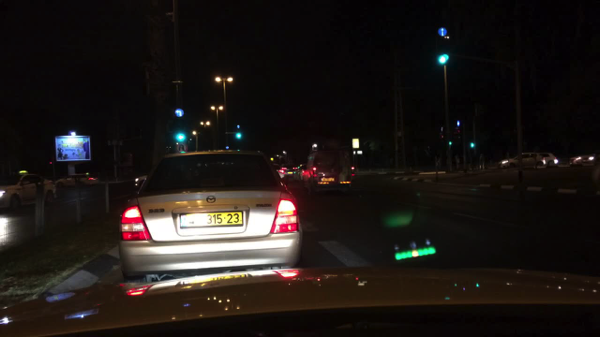car: (118, 150, 304, 282), (305, 148, 352, 198), (0, 170, 57, 211), (499, 152, 545, 171), (58, 172, 99, 188), (569, 153, 599, 166), (538, 151, 558, 168), (271, 162, 286, 181), (134, 175, 151, 189), (297, 164, 307, 179), (351, 167, 356, 178), (292, 167, 297, 177), (279, 167, 287, 173)
traffic light: (440, 55, 446, 65), (236, 132, 242, 140), (469, 142, 474, 150), (447, 140, 451, 147)
traffic sign: (120, 152, 134, 168), (176, 142, 188, 152), (437, 26, 447, 38), (352, 138, 360, 150), (175, 108, 183, 116), (172, 80, 185, 84), (270, 156, 275, 162)
